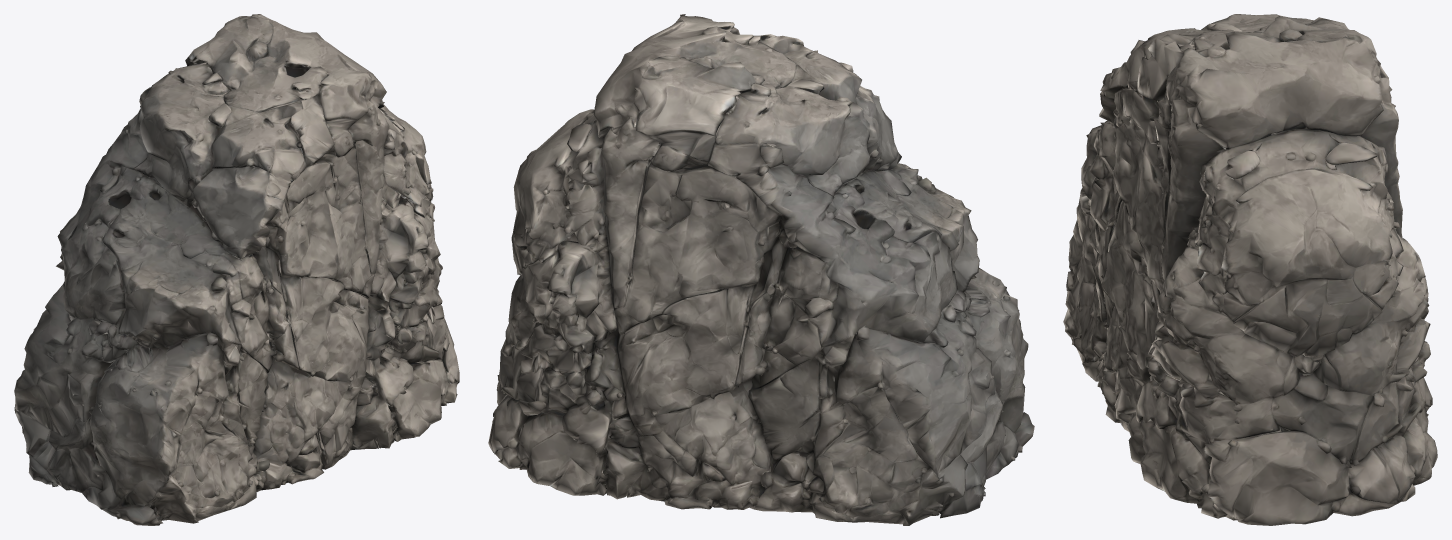
File: crag_e.glb
3 views of the same model, side by side, from view 1: azimuth 30°, elevation 25°; view 2: azimuth 150°, elevation 25°; view 3: azimuth 270°, elevation 25° (orthographic). The views are drawn at different scales.
Parts seen in each view (by area): view 1: crag_e; view 2: crag_e; view 3: crag_e.
Boxes of the visible parts, x1=… form: crag_e: x1=14, y1=14, x2=459, y2=525; crag_e: x1=488, y1=14, x2=1034, y2=525; crag_e: x1=1063, y1=14, x2=1437, y2=525.
Bounding box in the file's own units: 61.74 × 52.03 × 43.48.
Materials: 1 (1 with a texture image).
